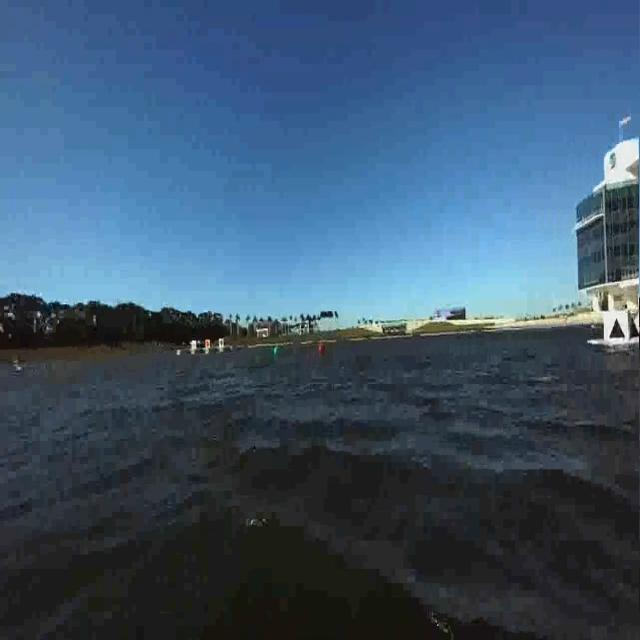green-buoy: (274, 348, 280, 354)
red-buoy: (319, 343, 325, 356)
